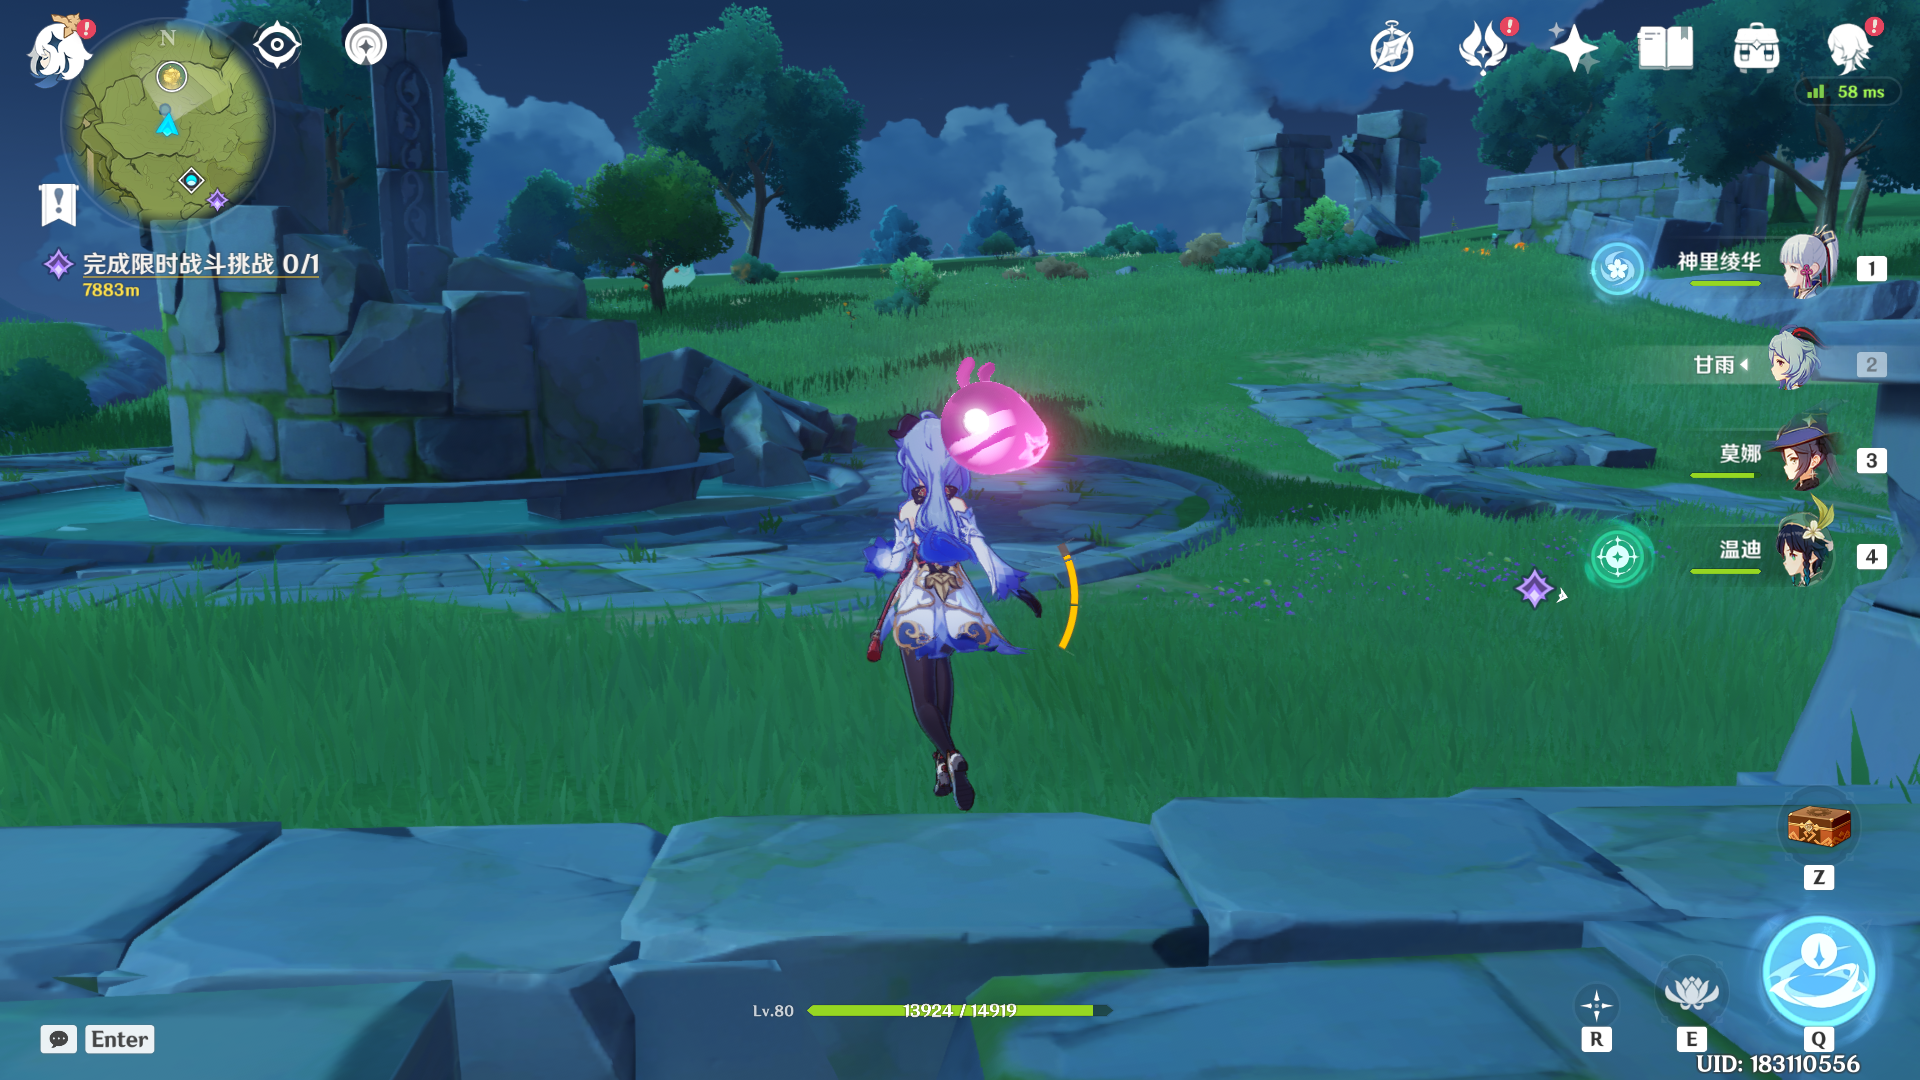character: (823, 389, 1091, 837)
